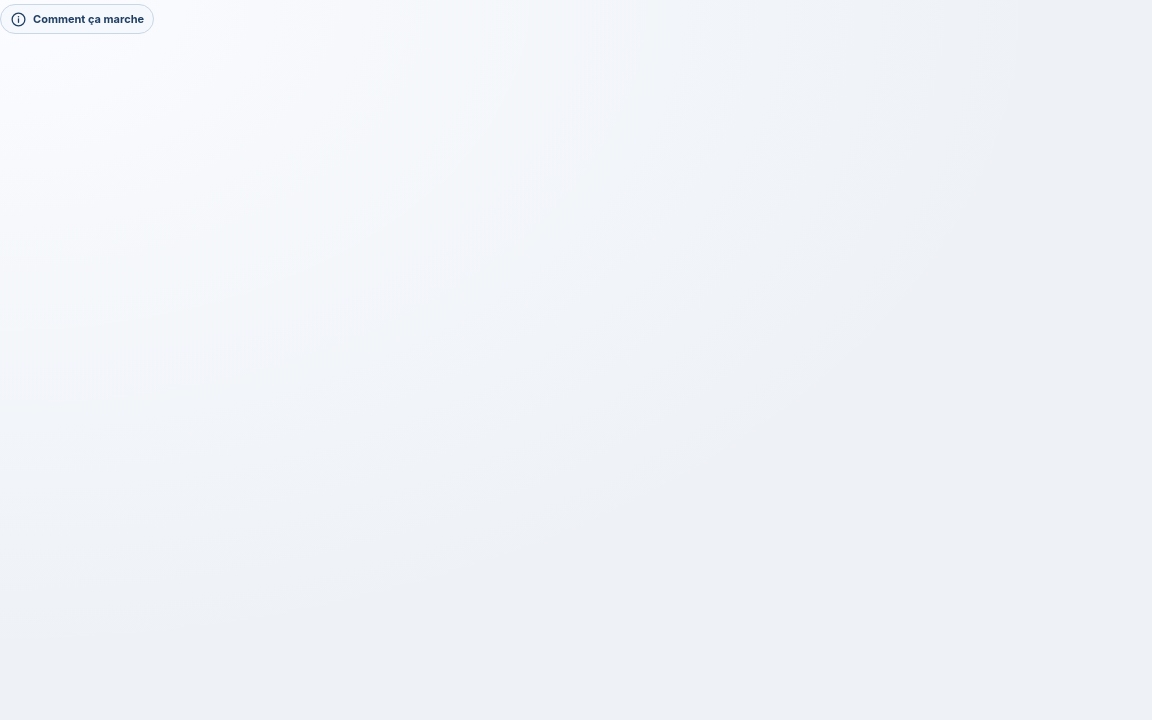
it: ElectionInfo › shows localized information in fr
The image size is (1152, 720).
Click the button "Comment ça marche": {"x": 77, "y": 19} x1=0 y1=4 x2=154 y2=34
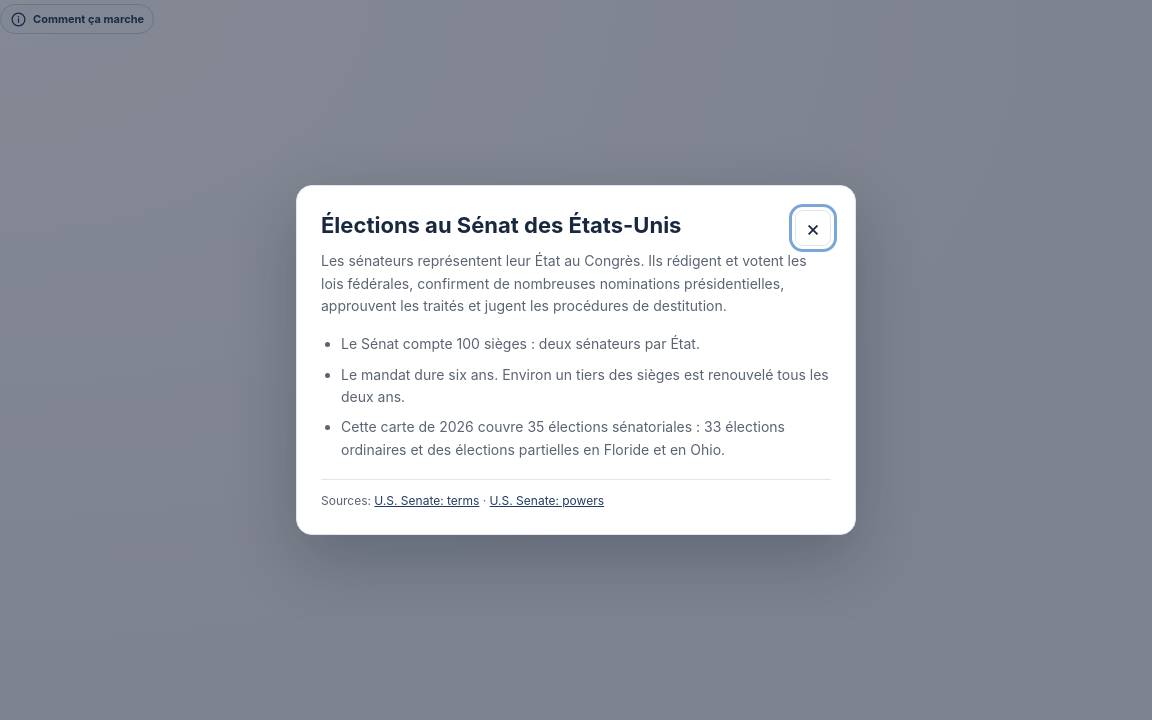
Result: the heading "Élections au Sénat des États-Unis" is shown at x1=321 y1=212 x2=681 y2=238
Result: the number of list items is 3 at x1=341 y1=335 x2=700 y2=352; x1=341 y1=364 x2=831 y2=408; x1=341 y1=416 x2=831 y2=461
